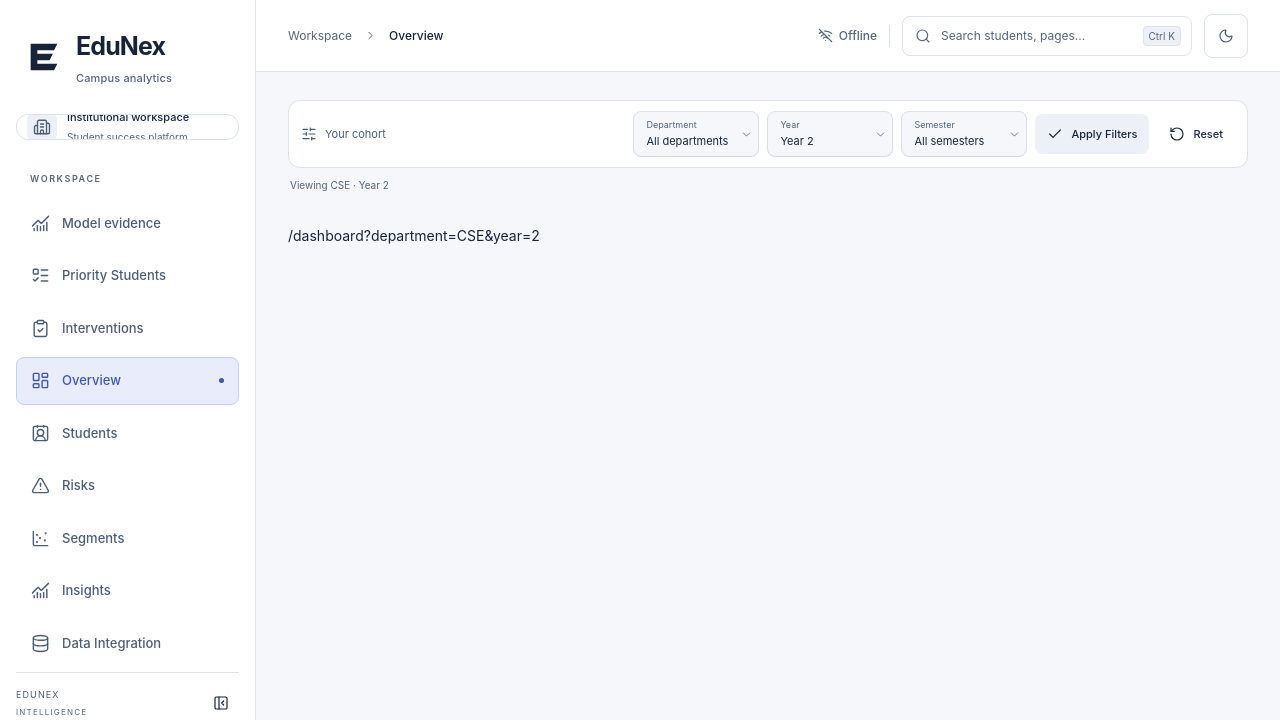
workspace navigation › opens an exact student ID without adding invented API search parameters
Click the button with aria-label "Search and navigate" at [1047, 36], box [902,16,1192,56]
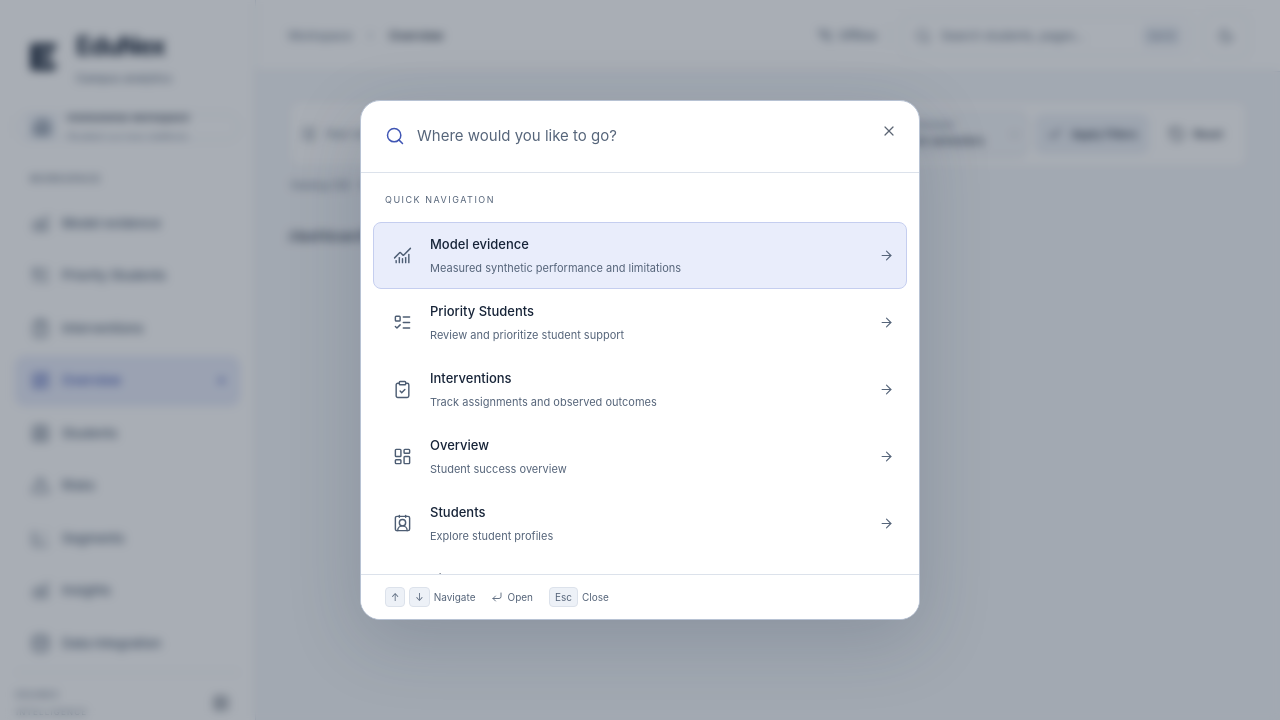
Type "STU001" into the dropdown at [644, 136], box [417,125,871,148]
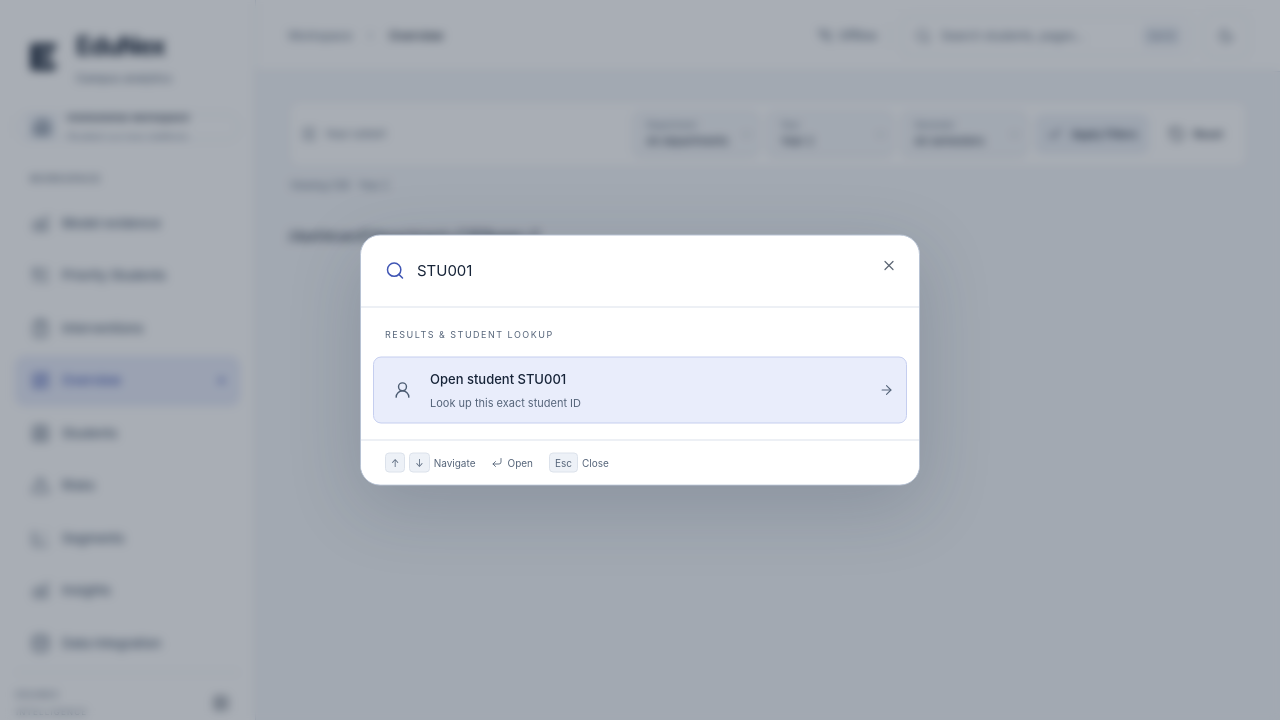
Press Enter
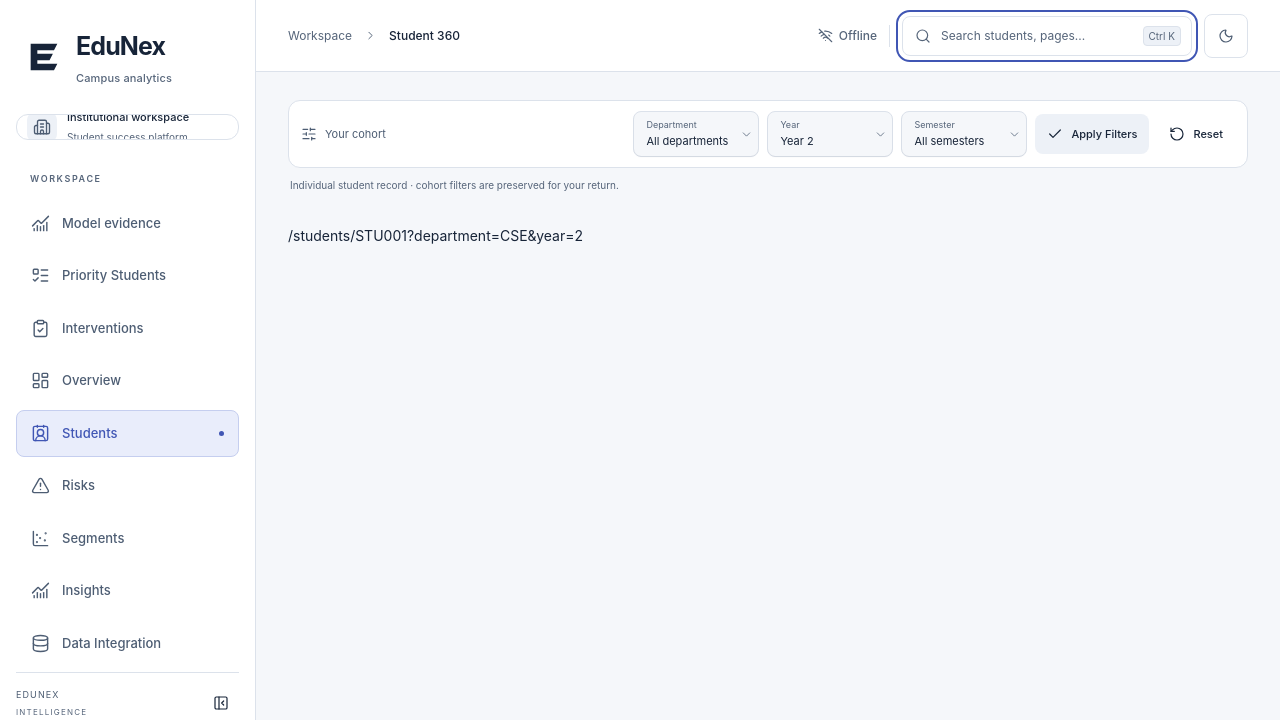
Now the text named "Current URL" reads "/students/STU001?department=CSE&year=2", box [288,227,583,244]
